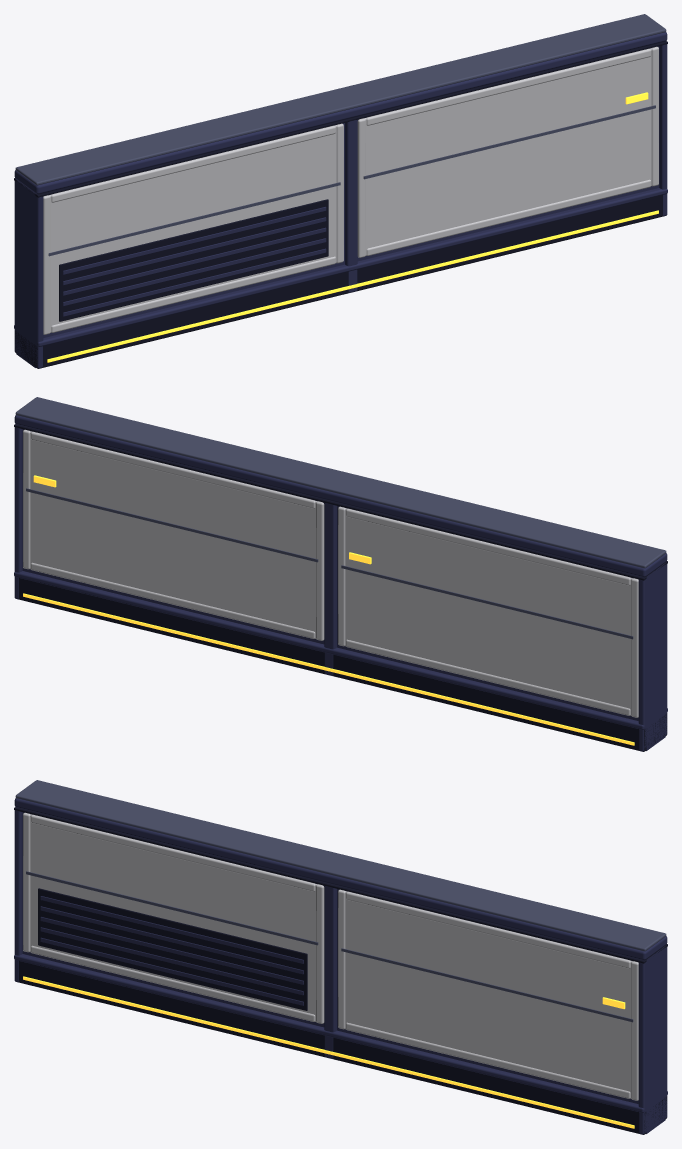
The model's file is int.halfwall.l4.000.glb.
The picture shows the model from 3 angles, top to bottom: view 1: azimuth 30°, elevation 25°; view 2: azimuth 150°, elevation 25°; view 3: azimuth 330°, elevation 25°; orthographic projection.
Parts seen in each view (by area): view 1: int.halfwall.l4.000; view 2: int.halfwall.l4.000; view 3: int.halfwall.l4.000.
Part boxes in pixels (x1=…): int.halfwall.l4.000: x1=14, y1=14, x2=667, y2=368; int.halfwall.l4.000: x1=14, y1=397, x2=667, y2=751; int.halfwall.l4.000: x1=14, y1=780, x2=667, y2=1134.
Size of the model in its own units: 4.01 by 1.13 by 0.278.
